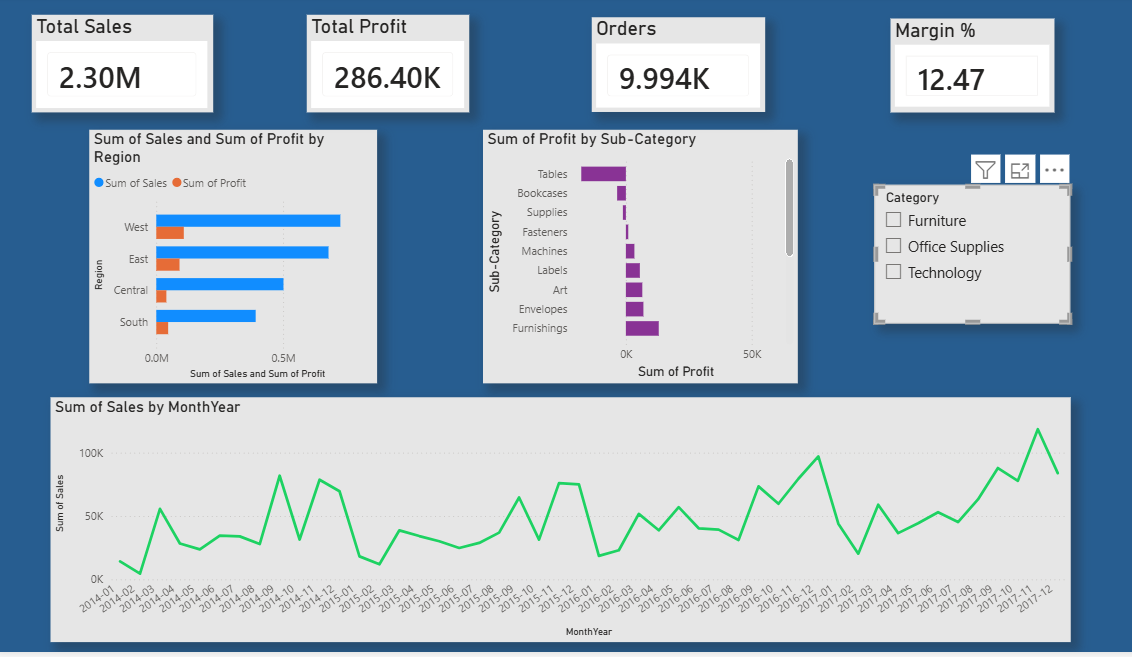

The dashboard page shown, as its layout file describes it:
{"tool":"powerbi","page":{"name":"Page 1","canvas":[1280,720],"ordinal":0},"visuals":[{"type":"clusteredBarChart","fields":{"Category":["superstore.Region"],"Y":["Sum(superstore.Sales)","Sum(superstore.Profit)"]},"box":[105.7,146.8,315.6,278.6],"z":0},{"type":"clusteredBarChart","fields":{"Category":["superstore.Sub-Category"],"Y":["Sum(superstore.Profit)"]},"box":[537.9,146.8,345.8,278.6],"z":1000},{"type":"lineChart","fields":{"Y":["Sum(superstore.Sales)"],"Category":["superstore.MonthYear"]},"box":[63.1,440.5,1119.7,269],"z":2000},{"type":"cardVisual","title":"Total Sales","fields":{"Data":["Sum(superstore.Sales)"]},"box":[42.5,20.6,199,107],"z":3000},{"type":"cardVisual","title":"Total Profit","fields":{"Data":["Sum(superstore.Profit)"]},"box":[344.4,20.6,178.4,107],"z":4000},{"type":"cardVisual","title":"Orders","fields":{"Data":["CountNonNull(superstore.Order ID)"]},"box":[657.3,23.3,190.7,104.3],"z":5000},{"type":"cardVisual","title":"Margin %","fields":{"Data":["superstore.Profit Margin %"]},"box":[985.3,24.7,179.8,102.9],"z":6000},{"type":"slicer","fields":{"Values":["superstore.Category"]},"box":[967.4,207.2,215.4,152.3],"z":6001}]}

Visuals, with their boxes in screenshot pixels (x1, y1, x2, y2):
clusteredBarChart - superstore.Region x Sum(superstore.Sales): select_region(90, 130, 375, 382)
clusteredBarChart - superstore.Sub-Category x Sum(superstore.Profit): select_region(480, 130, 793, 382)
lineChart - Sum(superstore.Sales) x superstore.MonthYear: select_region(51, 395, 1064, 639)
"Total Sales" cardVisual: select_region(33, 16, 212, 112)
"Total Profit" cardVisual: select_region(306, 16, 467, 112)
"Orders" cardVisual: select_region(588, 18, 761, 112)
"Margin %" cardVisual: select_region(885, 19, 1048, 112)
slicer - superstore.Category: select_region(869, 184, 1064, 322)
